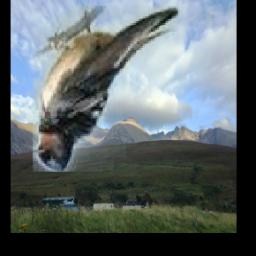Swallow: (33, 7, 215, 173)
